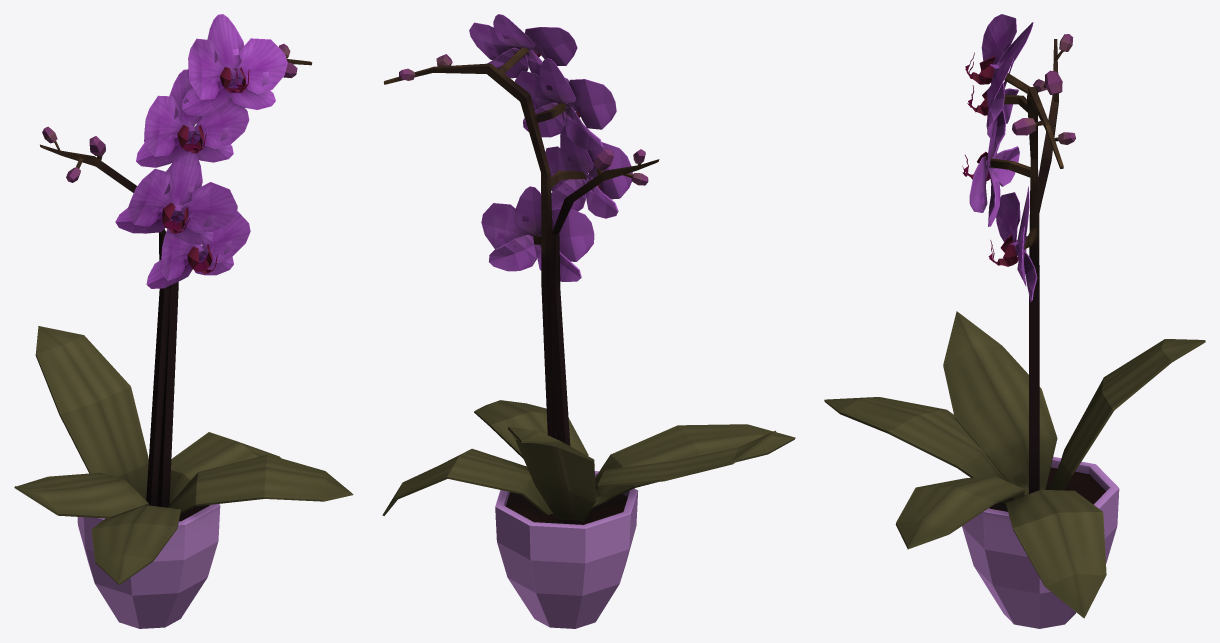
The model's file is purple_orchid.glb.
3 views of the same model, side by side, from view 1: azimuth 30°, elevation 25°; view 2: azimuth 150°, elevation 25°; view 3: azimuth 270°, elevation 25° (orthographic). The views are drawn at different scales.
Parts seen in each view (by area): view 1: Orchids_Mesh; view 2: Orchids_Mesh; view 3: Orchids_Mesh.
Part boxes in pixels (x1,y1,x2,y2): Orchids_Mesh: (14, 14, 353, 628); Orchids_Mesh: (382, 14, 795, 628); Orchids_Mesh: (824, 14, 1205, 628).
Bounding box in the file's own units: 2.56 × 4.14 × 2.28.
1 material, 1 textured.
